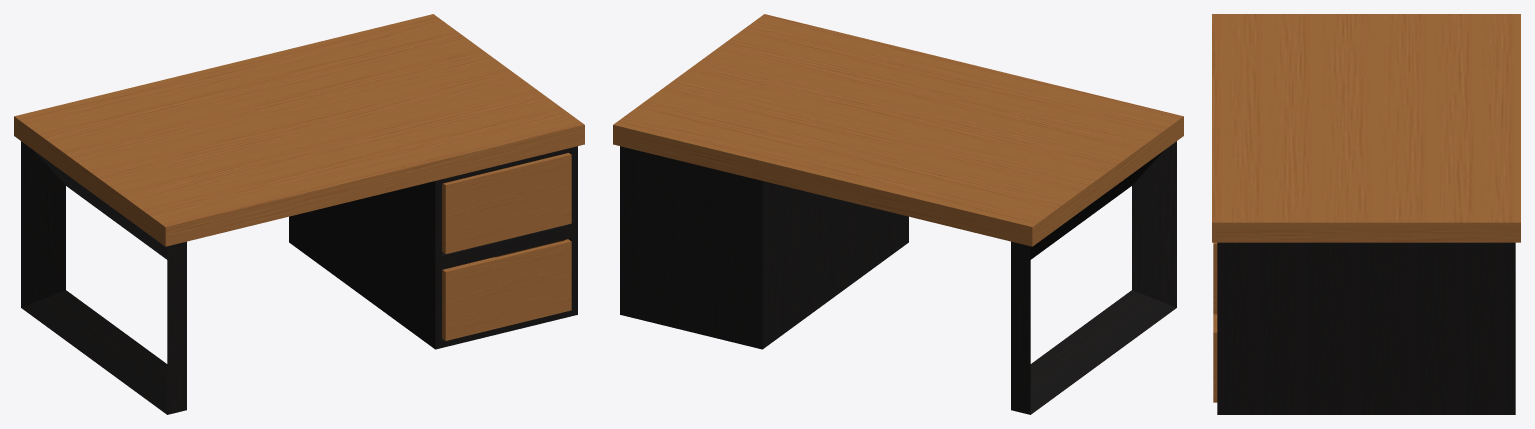
The model's file is Desk_W_Drawers_E.FBX.
3 views of the same model, side by side, from view 1: azimuth 30°, elevation 25°; view 2: azimuth 150°, elevation 25°; view 3: azimuth 270°, elevation 25° (orthographic).
Visible parts, largest first — view 1: Desk_With_Drawers, Drawer_B, Drawer_A; view 2: Desk_With_Drawers; view 3: Desk_With_Drawers, Drawer_B, Drawer_A.
Boxes of the visible parts, box(x1,y1,x2,y2) form: Desk_With_Drawers: box(14, 14, 584, 414); Drawer_B: box(442, 239, 571, 340); Drawer_A: box(442, 153, 571, 253); Desk_With_Drawers: box(613, 14, 1183, 414); Desk_With_Drawers: box(1212, 14, 1520, 414); Drawer_B: box(1213, 314, 1217, 402); Drawer_A: box(1213, 242, 1217, 314).
Size of the model in its own units: 227 by 98.47 by 142.
